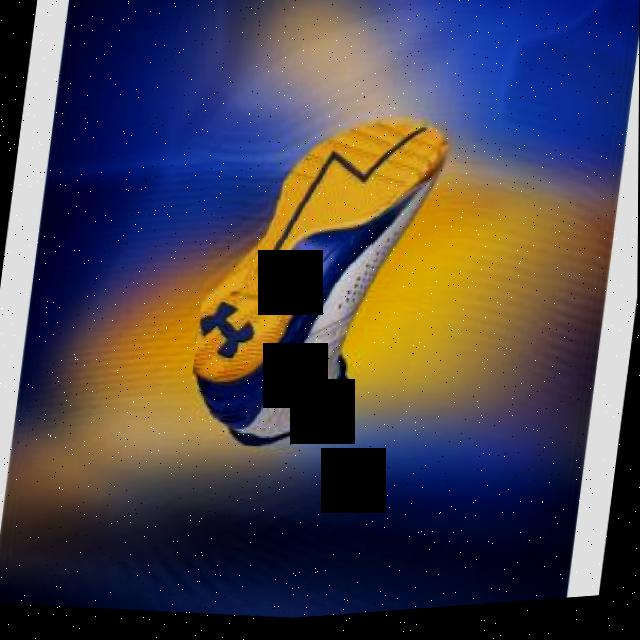shoe: (184, 98, 455, 474)
